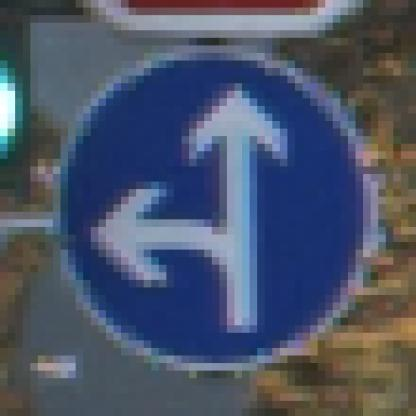Straight or Left: (47, 39, 380, 379)
